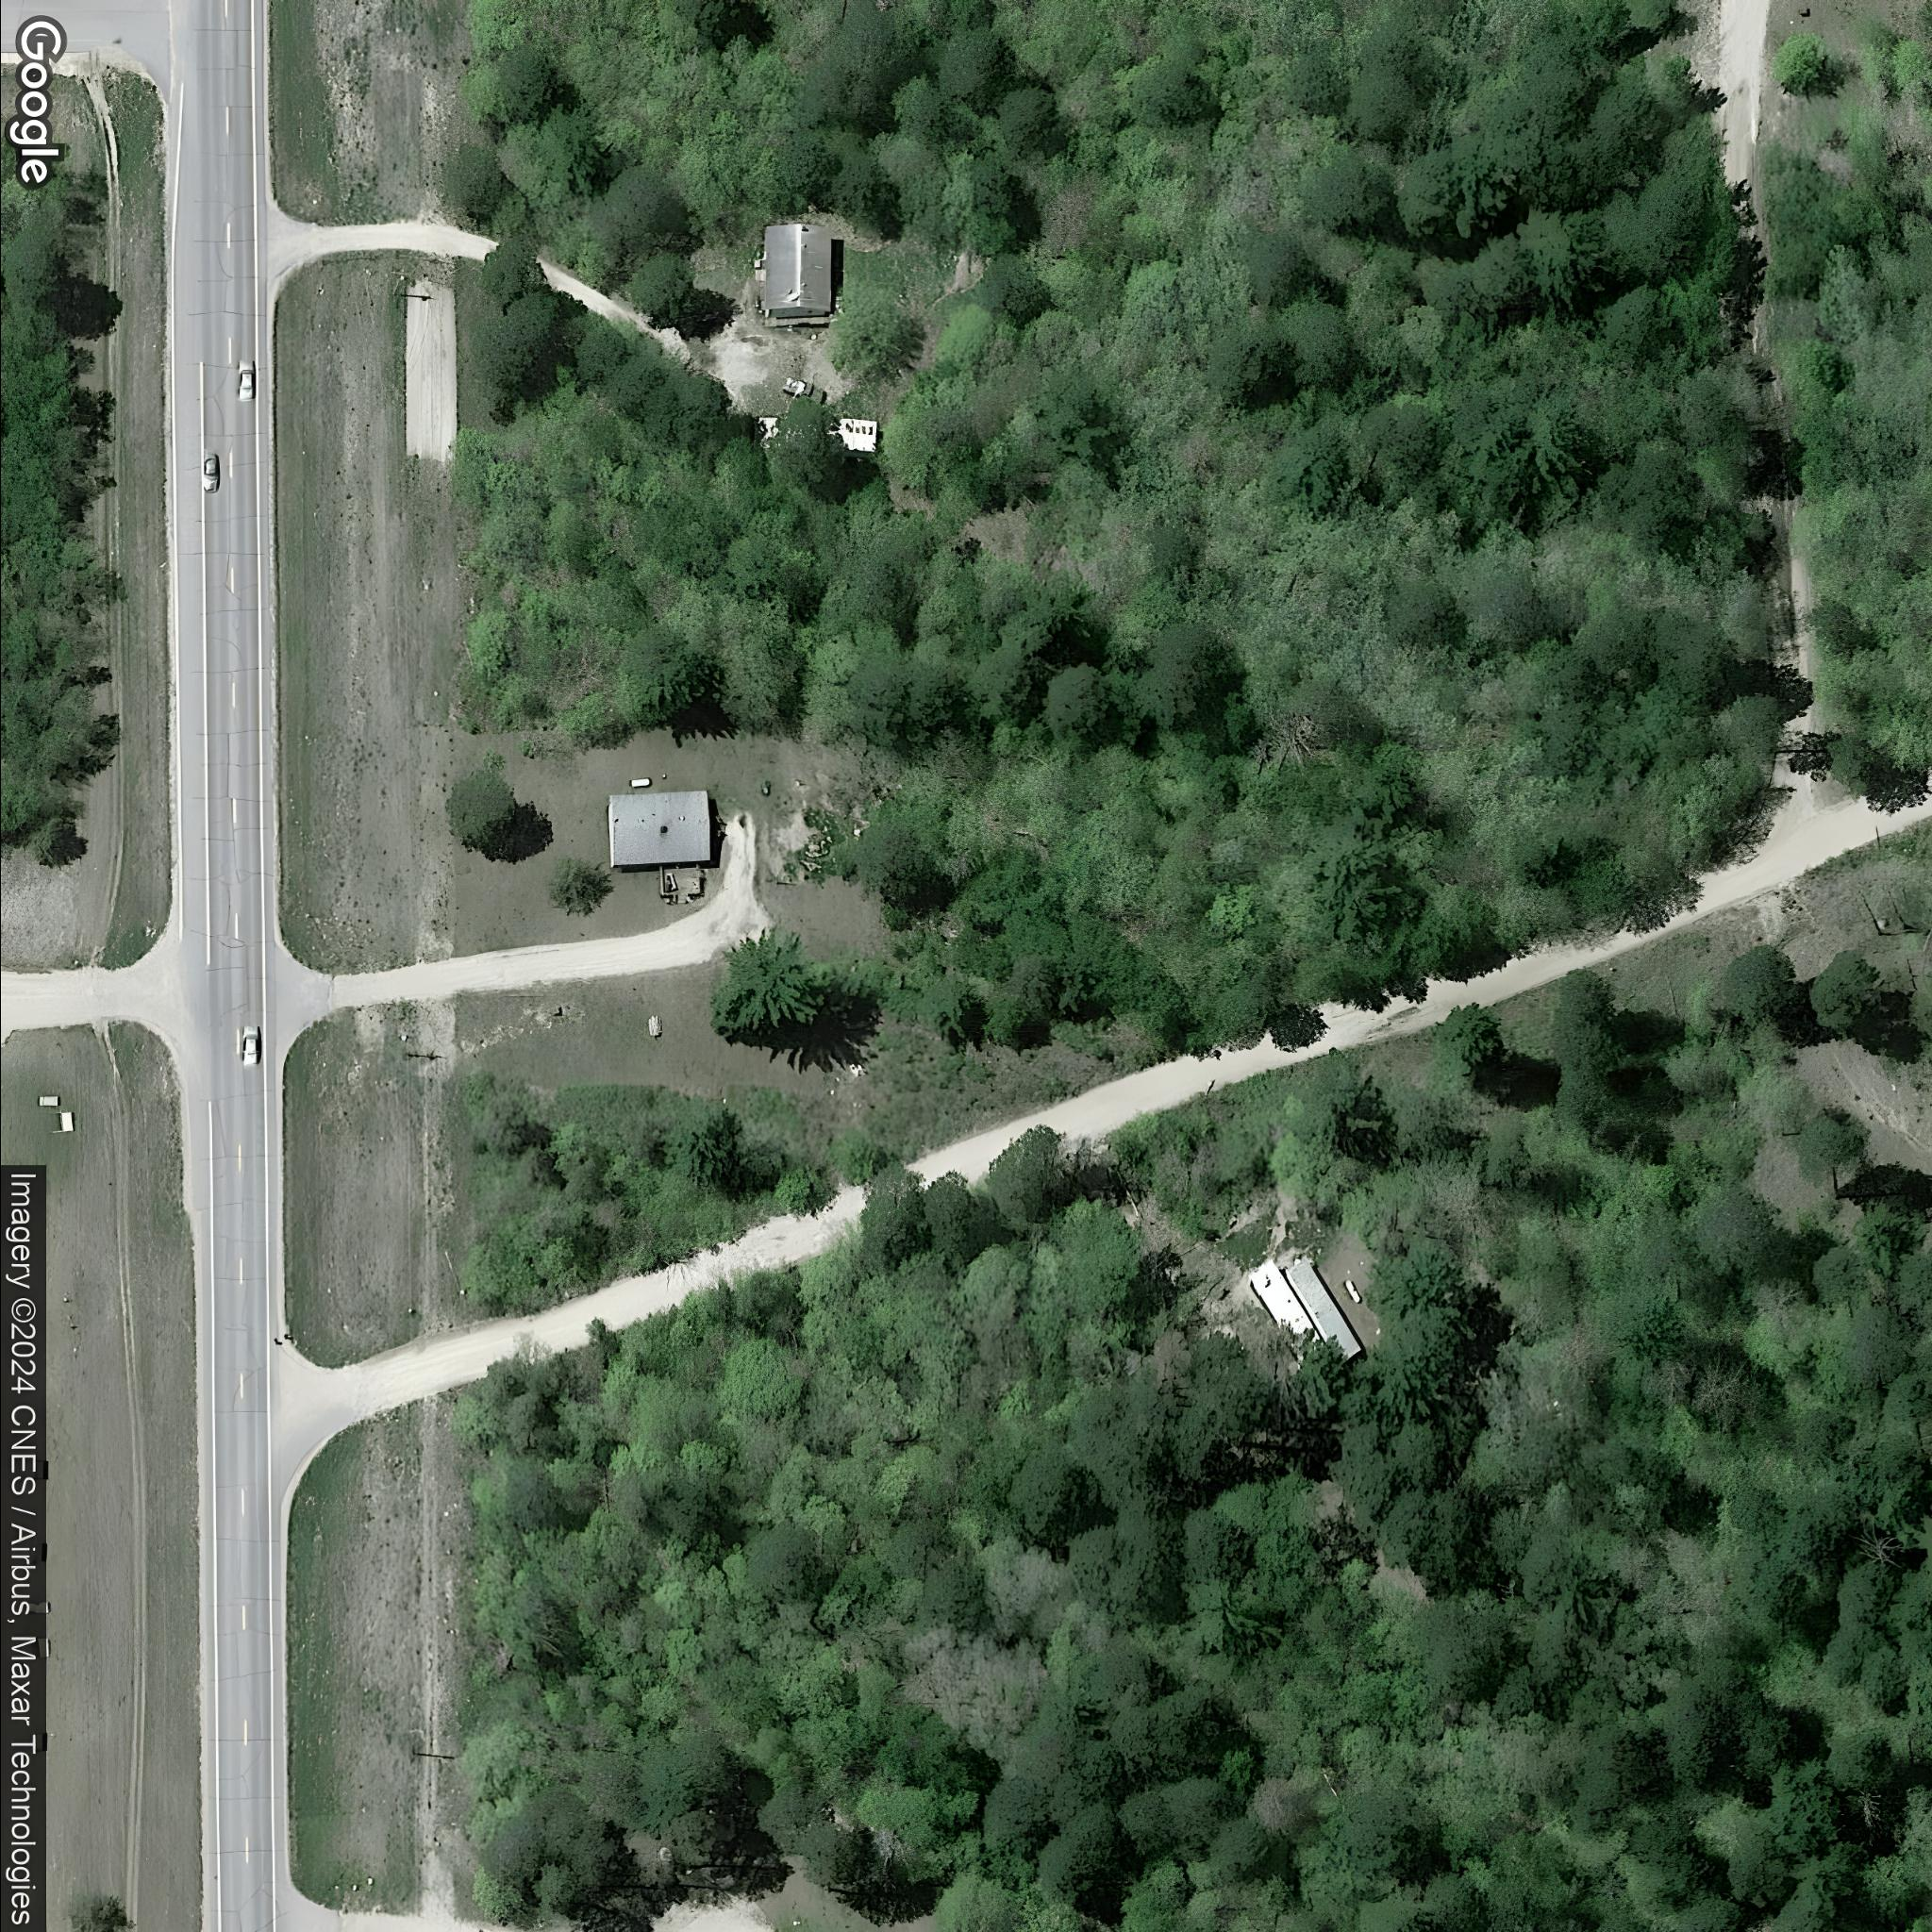House: (605, 791, 711, 869), (764, 219, 833, 317)
Propane: (1339, 1277, 1364, 1307), (623, 773, 653, 789)
Trailer: (1246, 1256, 1336, 1385), (1279, 1254, 1366, 1368)
